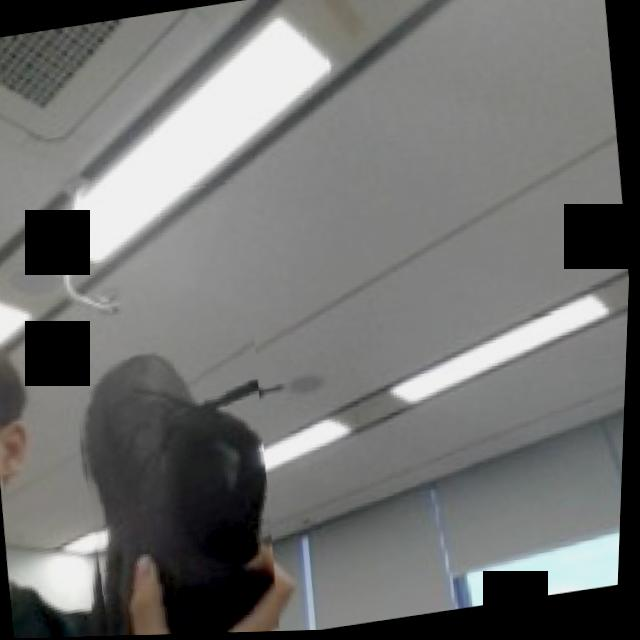shoe: (66, 335, 293, 638)
